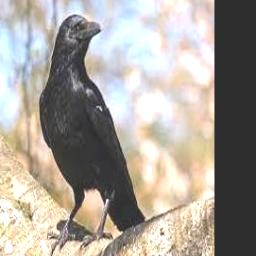Crow: (39, 15, 145, 254)
